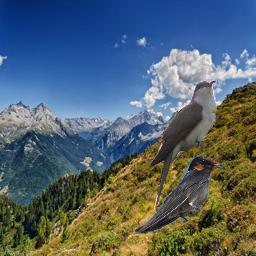Cuckoo: (148, 80, 217, 212)
Swallow: (134, 156, 223, 234)
